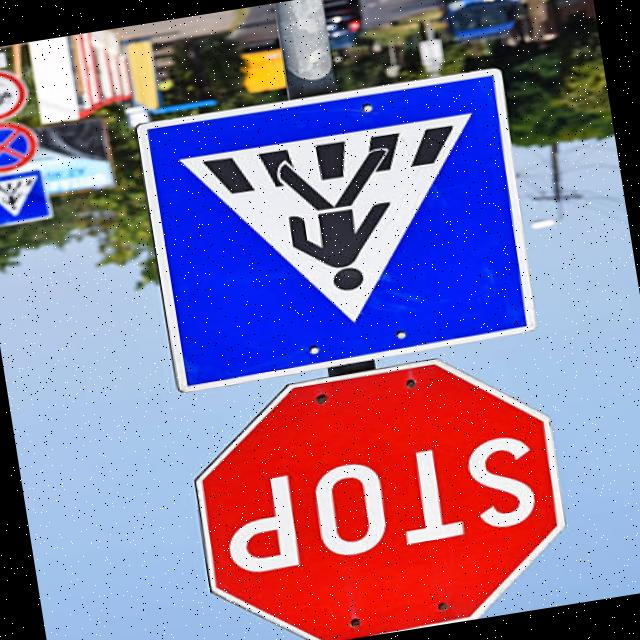crosswalk: (115, 54, 558, 402), (0, 160, 66, 237)
